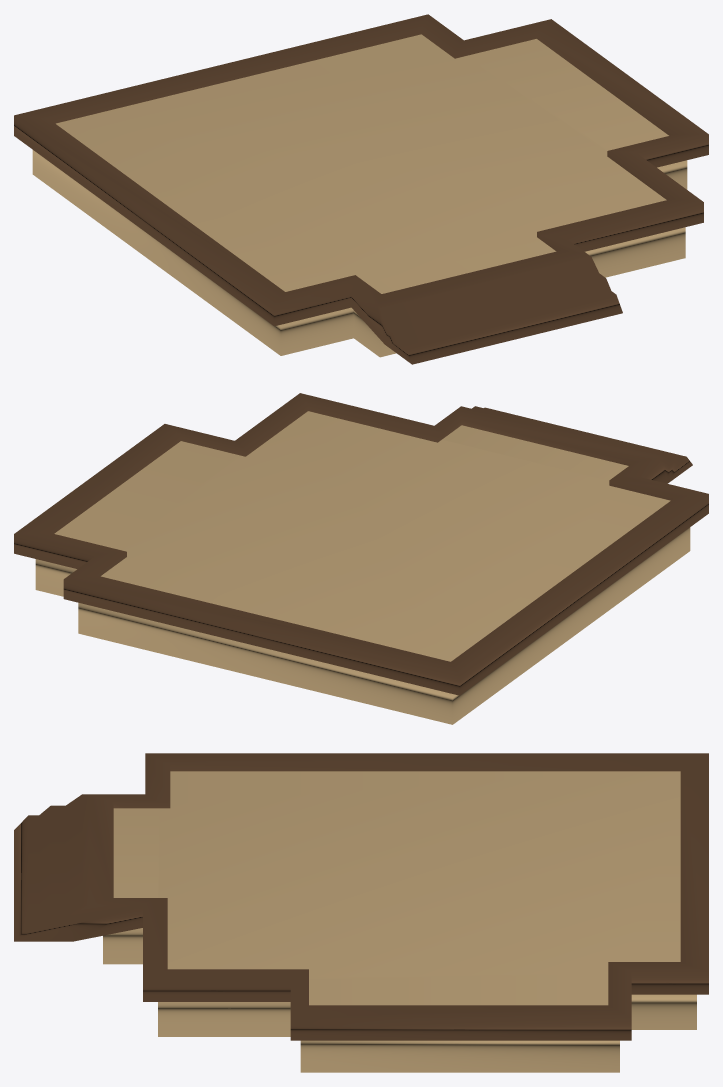
The model's file is Tanah Rumah.fbx.
3 views of the same model, one above another, from view 1: azimuth 30°, elevation 25°; view 2: azimuth 150°, elevation 25°; view 3: azimuth 270°, elevation 25° (orthographic). The views are drawn at different scales.
Visible parts, largest first — view 1: Tanah Rumah; view 2: Tanah Rumah; view 3: Tanah Rumah.
Part boxes in pixels (<box>): Tanah Rumah: <box>14,14,708,364</box>; Tanah Rumah: <box>14,393,708,724</box>; Tanah Rumah: <box>14,753,708,1072</box>.
Bounding box in the file's own units: 9139 × 1013 × 10125.
